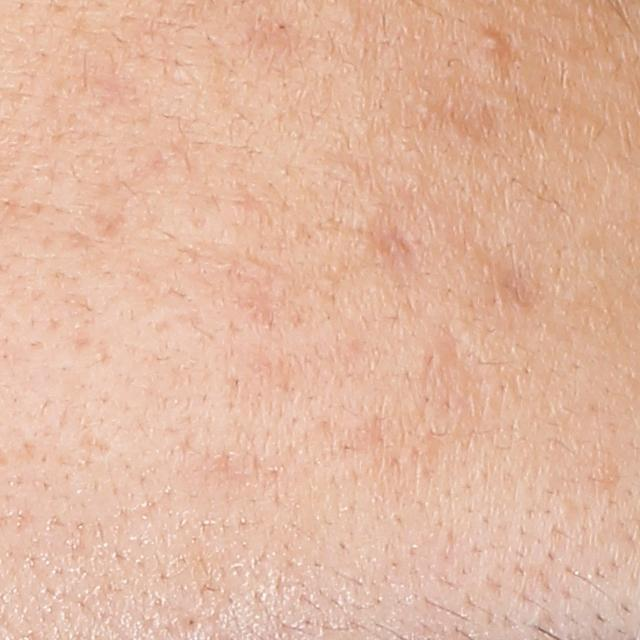comedo: (482, 32, 505, 54)
